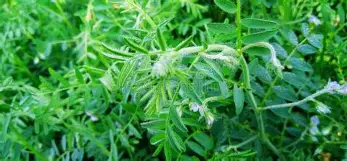crops: (0, 0, 340, 159), (138, 92, 207, 157), (0, 89, 52, 159), (49, 105, 113, 161), (300, 2, 346, 78), (286, 98, 345, 156), (167, 0, 211, 38), (207, 144, 257, 161)
